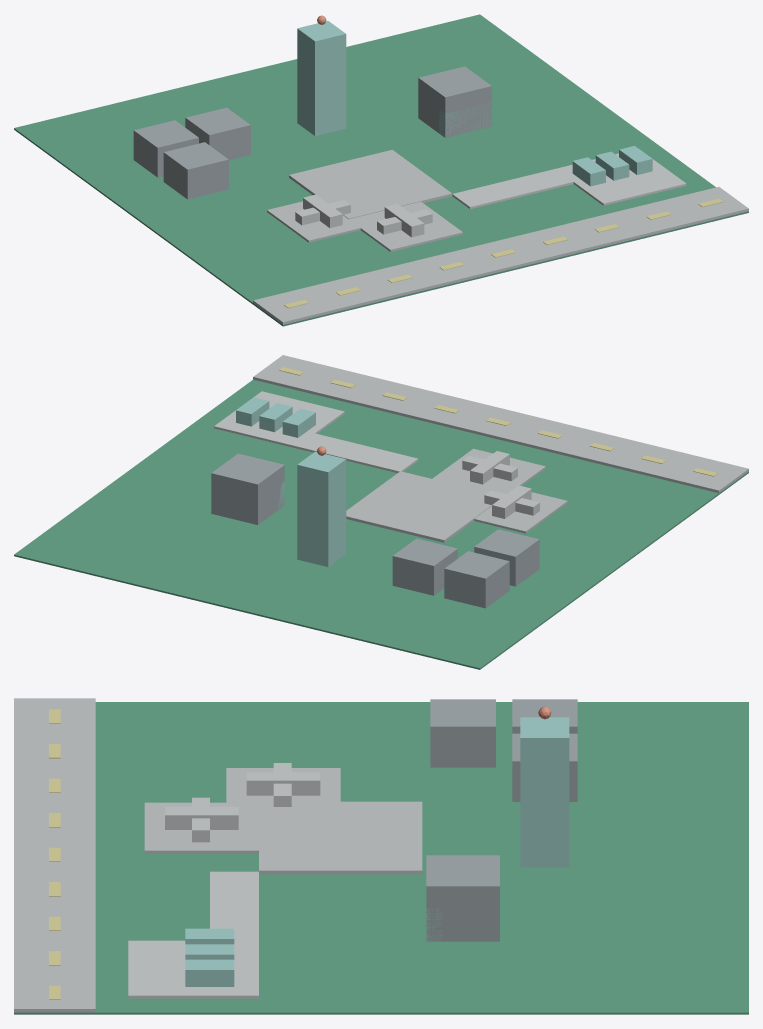
File: stage_10.glb
The picture shows the model from 3 angles, top to bottom: view 1: azimuth 30°, elevation 25°; view 2: azimuth 150°, elevation 25°; view 3: azimuth 270°, elevation 25°; orthographic projection. The views are drawn at different scales.
Parts seen in each view (by area): view 1: geometry_0; view 2: geometry_0; view 3: geometry_0.
Boxes of the visible parts, <box> form: geometry_0: <box>14,14,748,326</box>; geometry_0: <box>14,355,748,669</box>; geometry_0: <box>14,698,748,1014</box>.
Bounding box in the file's own units: 9 × 2.06 × 9.
